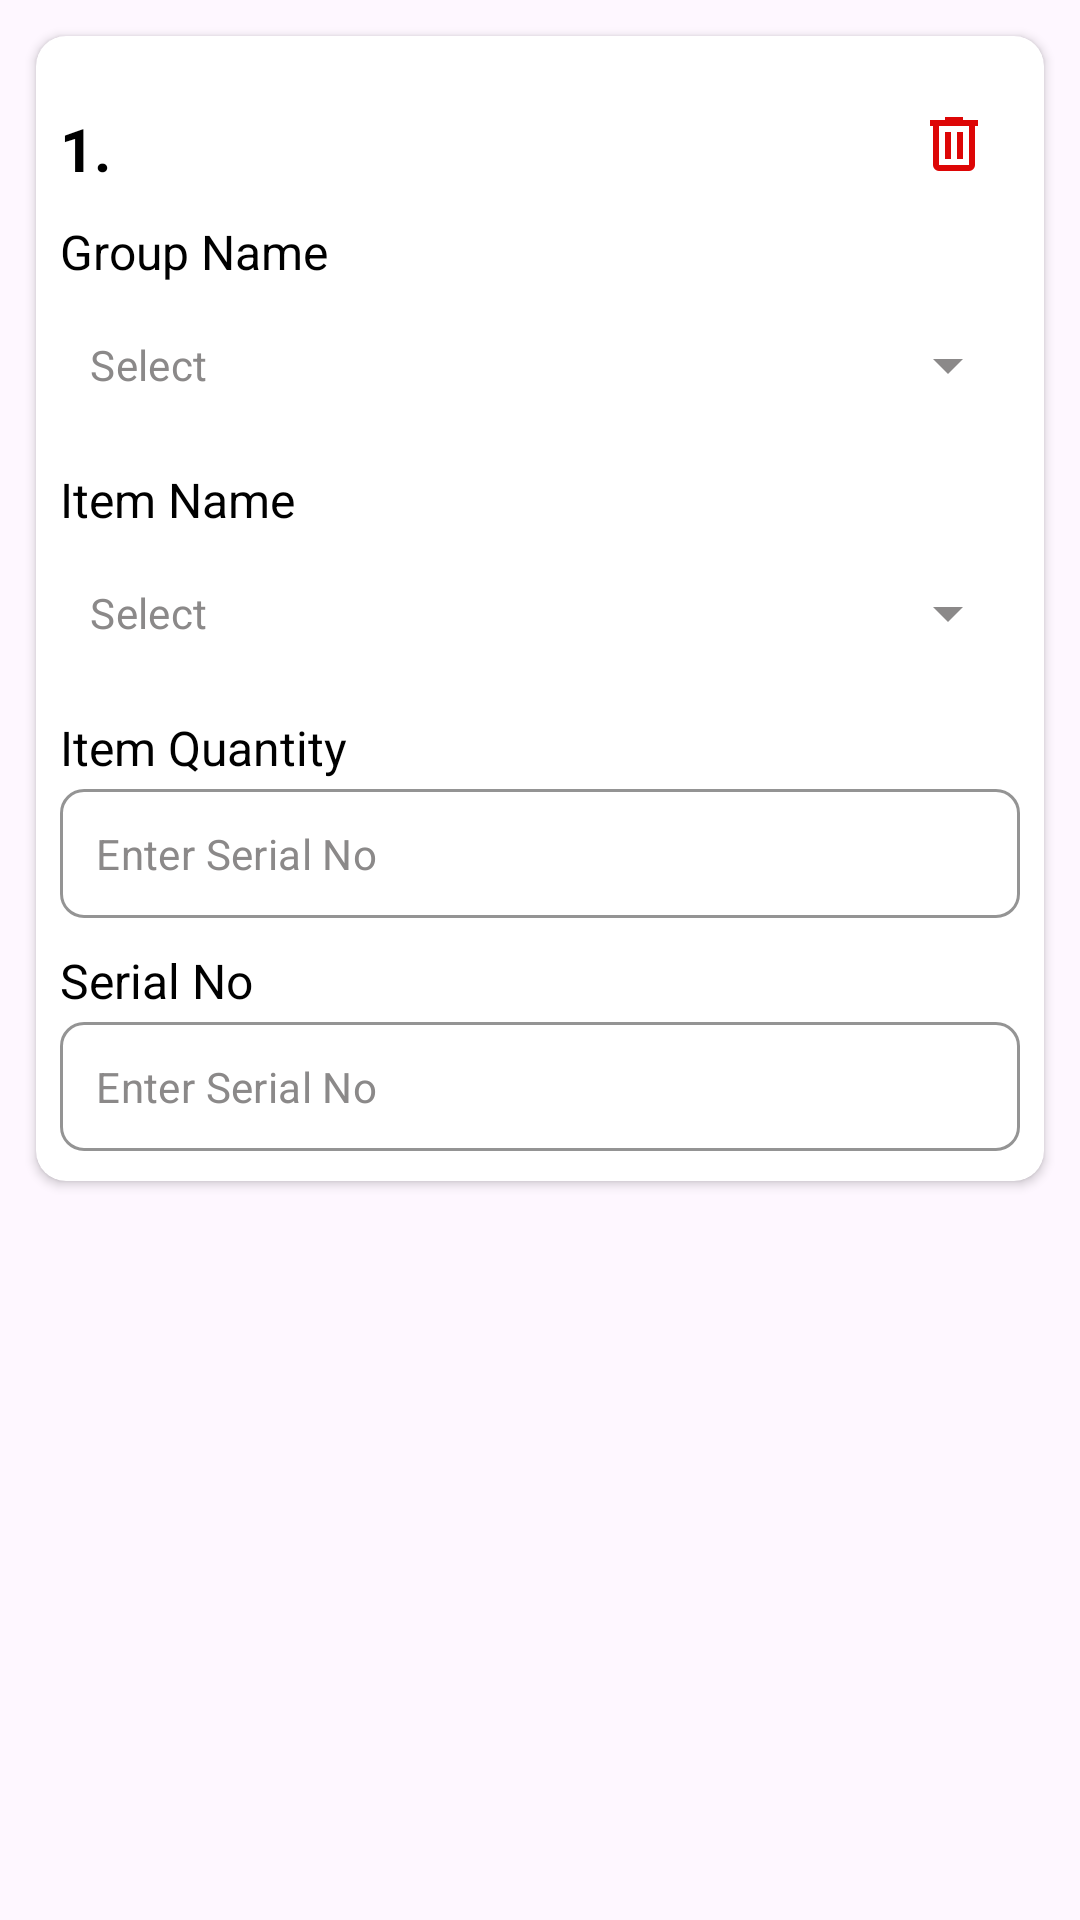

Icons on this 1080×1920 Android screen, each with its box as (x1, y1, x2, y2):
delete: (930, 117, 978, 171)
